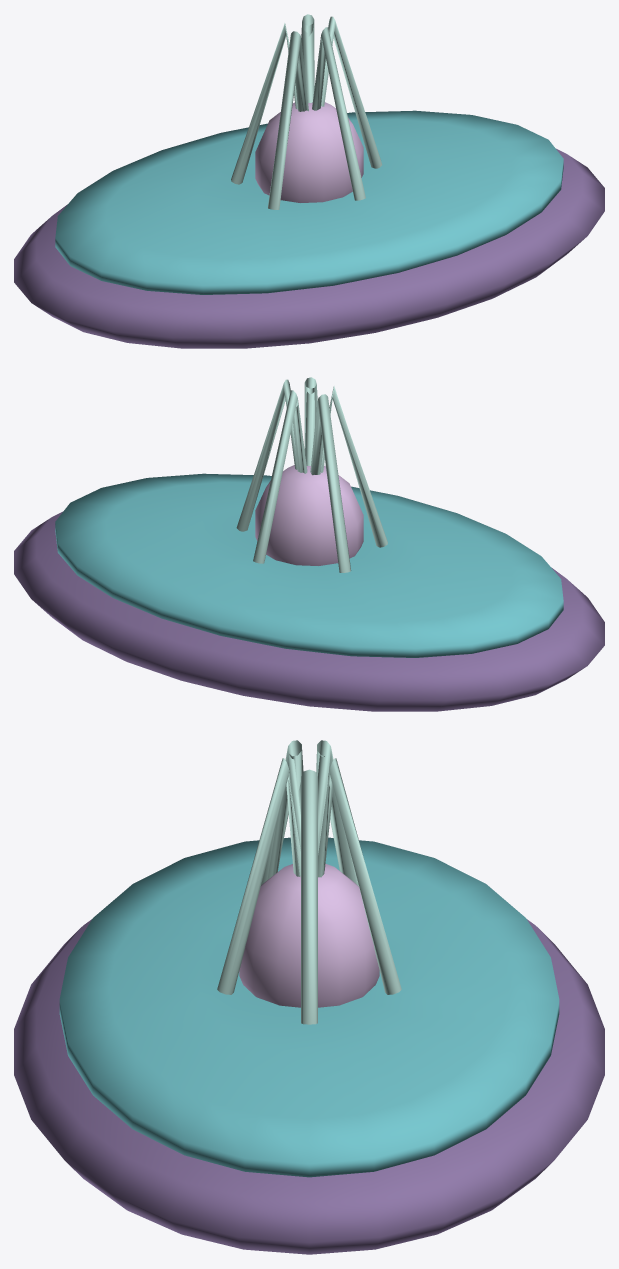
Rendered from fountain_4.glb.
3 renders of one model, top to bottom at view 1: azimuth 30°, elevation 25°; view 2: azimuth 150°, elevation 25°; view 3: azimuth 270°, elevation 25°, orthographic. The views are drawn at different scales.
Parts seen in each view (by area): view 1: Fountain; view 2: Fountain; view 3: Fountain.
Boxes of the visible parts, x1,y1,x2,y2 form: Fountain: (14,14,604,348); Fountain: (14,377,604,711); Fountain: (14,740,604,1254).
Size of the model in its own units: 3.06 by 1.38 by 2.01.
